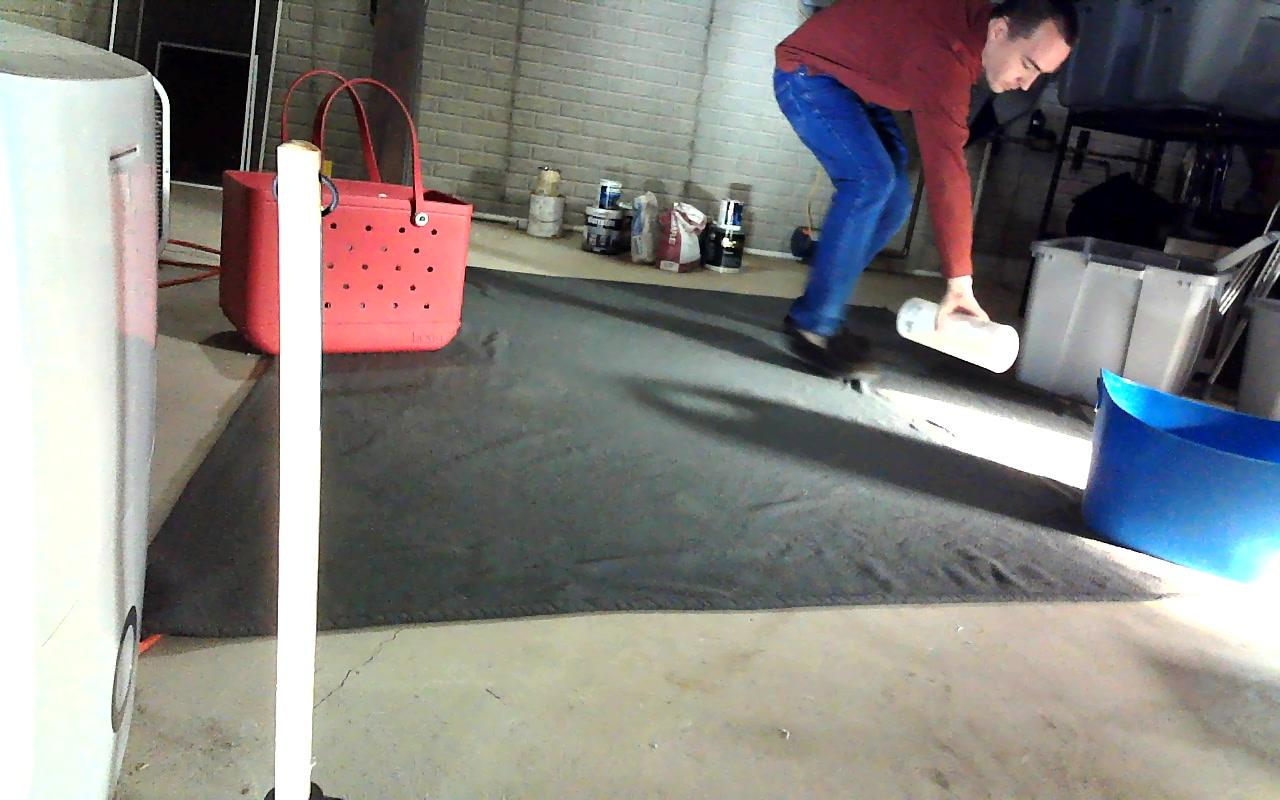coral: (896, 297, 1018, 372)
